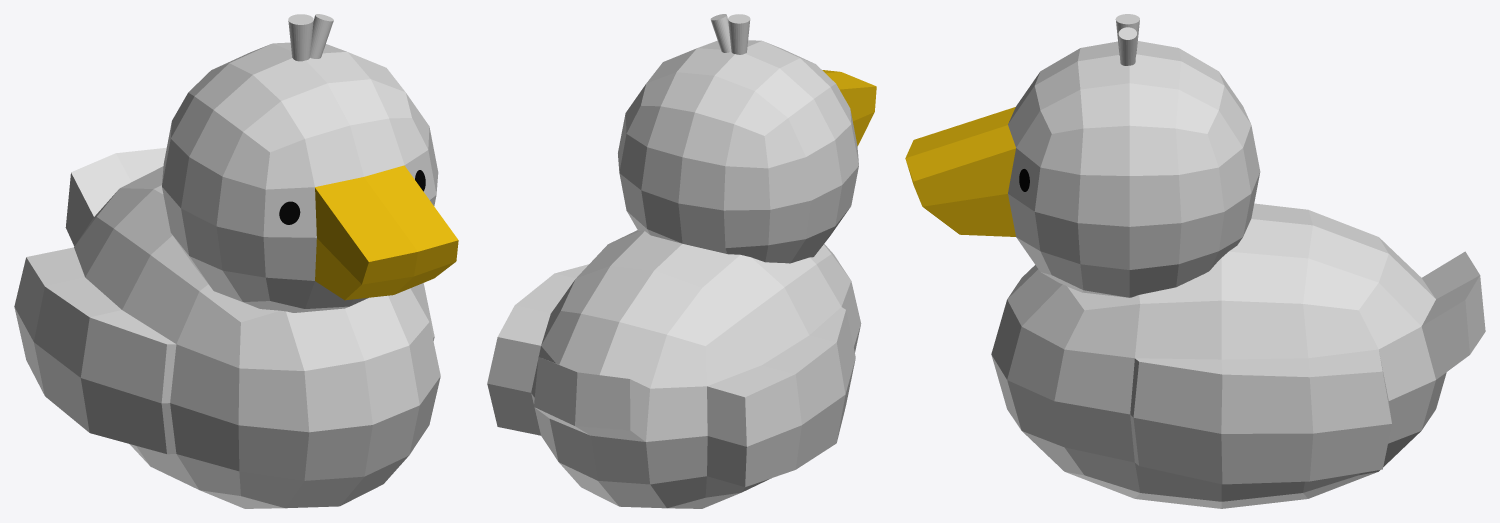
The model's file is lowpoly_duck.glb.
The picture shows the model from 3 angles, left to right: view 1: azimuth 30°, elevation 25°; view 2: azimuth 150°, elevation 25°; view 3: azimuth 270°, elevation 25°; orthographic projection. The views are drawn at different scales.
Bounding box in the file's own units: 2.41 × 3.36 × 3.73.
